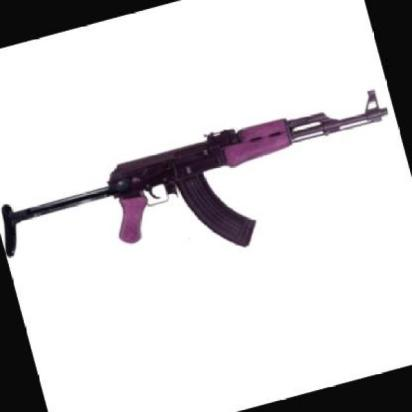Gun: (0, 59, 412, 329)
